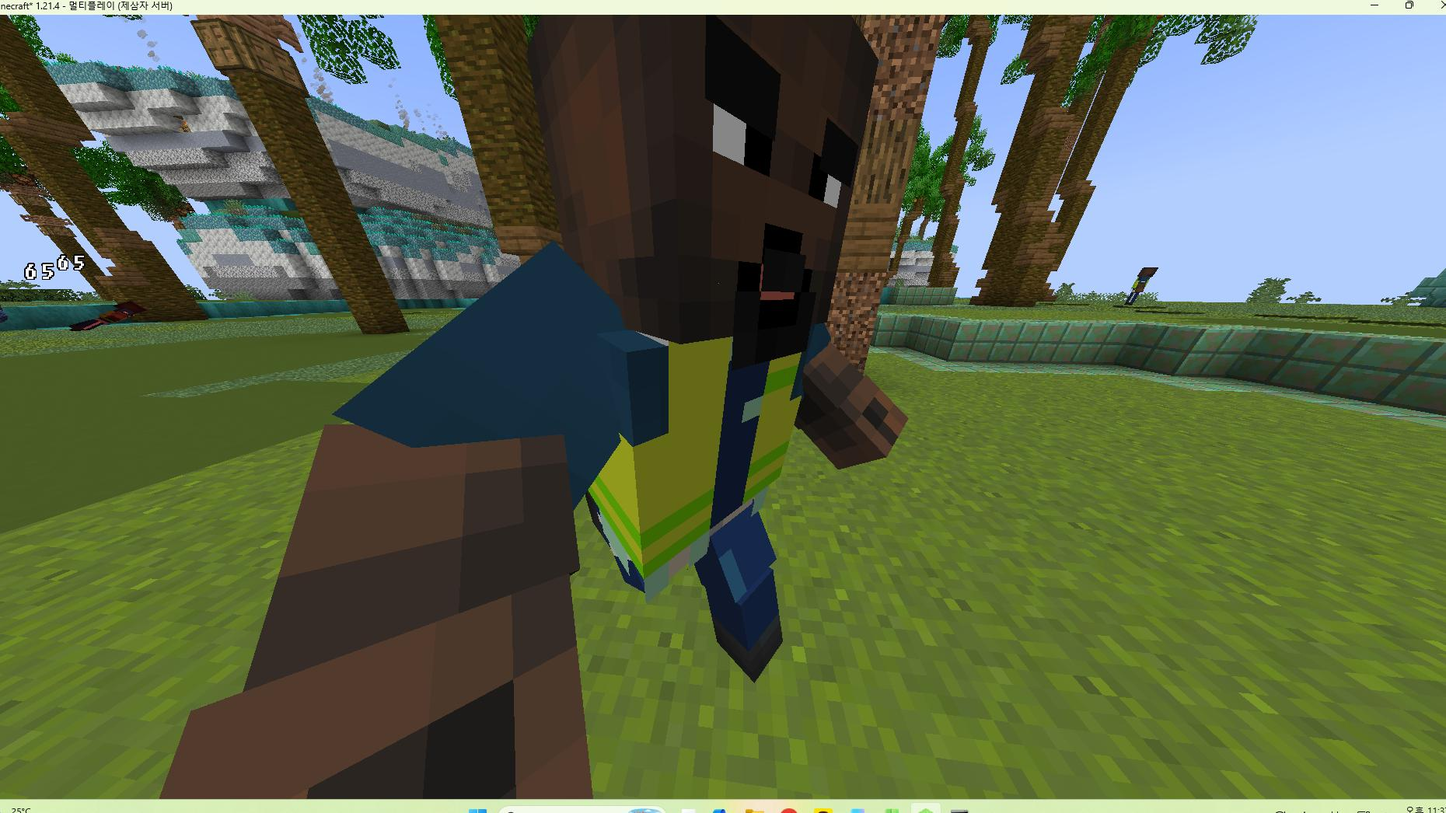Guardian: (237, 16, 907, 797)
